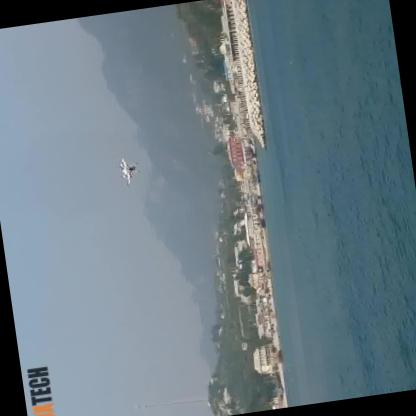drone: (104, 145, 153, 194)
